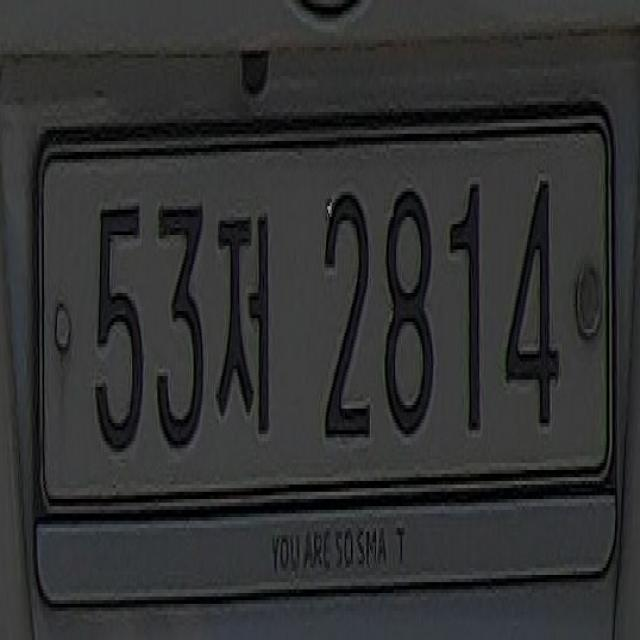1: (448, 174, 501, 506)
2: (311, 170, 378, 459)
3: (154, 188, 210, 481)
4: (495, 170, 567, 466)
5: (96, 199, 149, 459)
8: (376, 177, 438, 459)
jeo: (211, 192, 276, 438)
license_plate: (22, 105, 628, 625)
